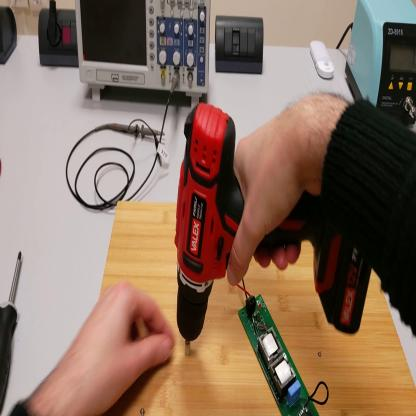electric screwdriver: (168, 104, 373, 343)
hand: (226, 102, 317, 285), (62, 283, 175, 415)
high voltage board: (238, 281, 330, 412)
oscilloscope: (76, 2, 215, 111)
oscilloscope probe tip: (110, 122, 167, 142)
screwdriver-: (2, 255, 23, 416)
socket: (40, 7, 80, 71), (1, 7, 20, 64)
welder station: (347, 3, 416, 128)
working area: (97, 200, 416, 416)
